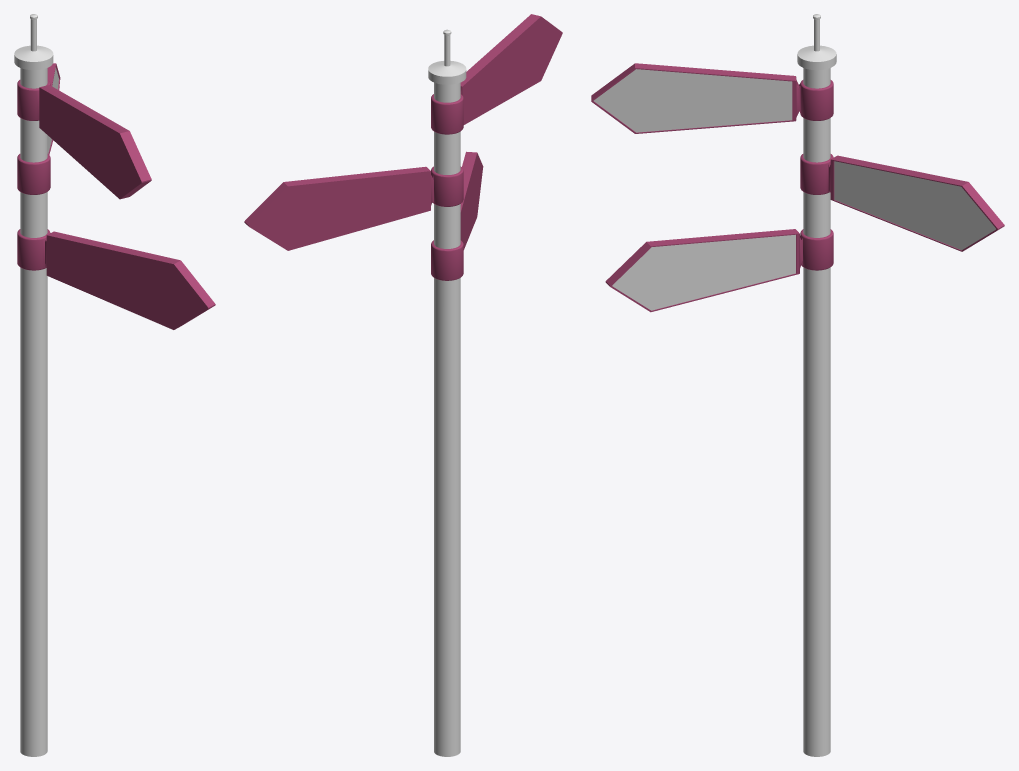
File: Signs.fbx
3 renders of one model, left to right at view 1: azimuth 30°, elevation 25°; view 2: azimuth 150°, elevation 25°; view 3: azimuth 270°, elevation 25°, orthographic. The views are drawn at different scales.
Visible parts, largest first — view 1: Cylinder, Cylinder.002, Cylinder.001, Cylinder.003; view 2: Cylinder, Cylinder.003, Cylinder.001, Cylinder.002; view 3: Cylinder, Cylinder.001, Cylinder.002, Cylinder.003.
Part boxes in pixels (bbox=[...]): Cylinder: bbox=[14, 14, 53, 756]; Cylinder.002: bbox=[17, 229, 215, 329]; Cylinder.001: bbox=[17, 80, 151, 199]; Cylinder.003: bbox=[17, 63, 60, 194]; Cylinder: bbox=[428, 29, 466, 756]; Cylinder.003: bbox=[244, 166, 463, 250]; Cylinder.001: bbox=[431, 14, 562, 134]; Cylinder.002: bbox=[431, 151, 483, 280]; Cylinder: bbox=[797, 14, 836, 756]; Cylinder.001: bbox=[591, 63, 833, 133]; Cylinder.002: bbox=[605, 229, 833, 312]; Cylinder.003: bbox=[800, 154, 1004, 251].
Size of the model in its own units: 53.49 by 281 by 143.
